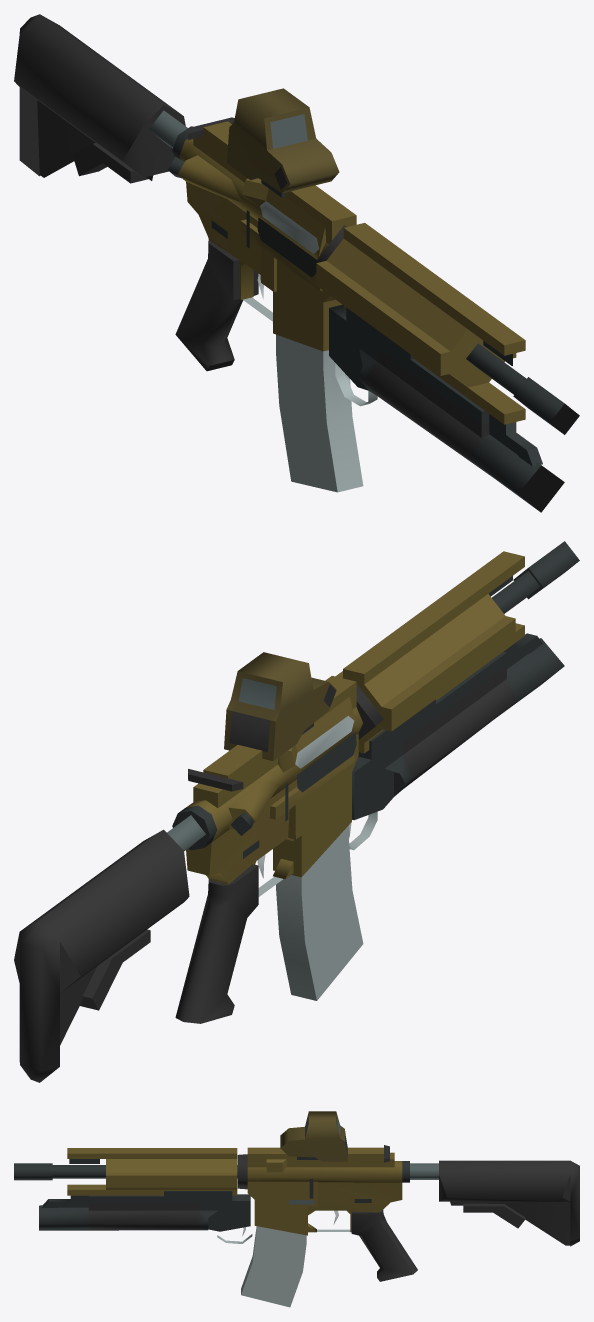
The model's file is Weapon_Low_AssaultRifle.FBX.
The picture shows the model from 3 angles, top to bottom: view 1: azimuth 30°, elevation 25°; view 2: azimuth 150°, elevation 25°; view 3: azimuth 270°, elevation 25°; orthographic projection. The views are drawn at different scales.
Visible parts, largest first — view 1: WeaponAssaultRifle_Low, WeaponAssaultRifle_Mag_Low; view 2: WeaponAssaultRifle_Low, WeaponAssaultRifle_Mag_Low; view 3: WeaponAssaultRifle_Low, WeaponAssaultRifle_Mag_Low.
Part boxes in pixels (box(x1,y1,x2,y2)): WeaponAssaultRifle_Low: box(14, 14, 579, 512); WeaponAssaultRifle_Mag_Low: box(276, 334, 363, 492); WeaponAssaultRifle_Low: box(14, 541, 579, 1082); WeaponAssaultRifle_Mag_Low: box(276, 825, 363, 1000); WeaponAssaultRifle_Low: box(14, 1111, 579, 1281); WeaponAssaultRifle_Mag_Low: box(241, 1226, 306, 1307).
Bounding box in the file's own units: 8 × 91.68 × 33.42.
